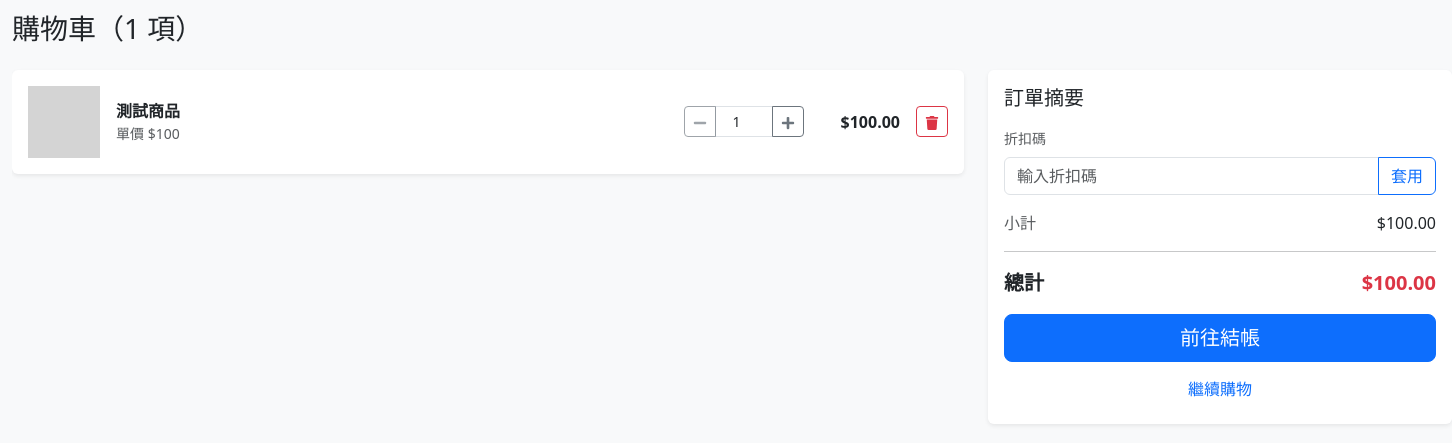
Test: CartPage 整合測試 › 移除商品 → 回到空狀態
Click the button named "移除商品" at (932, 122), box x1=916 y1=106 x2=948 y2=137
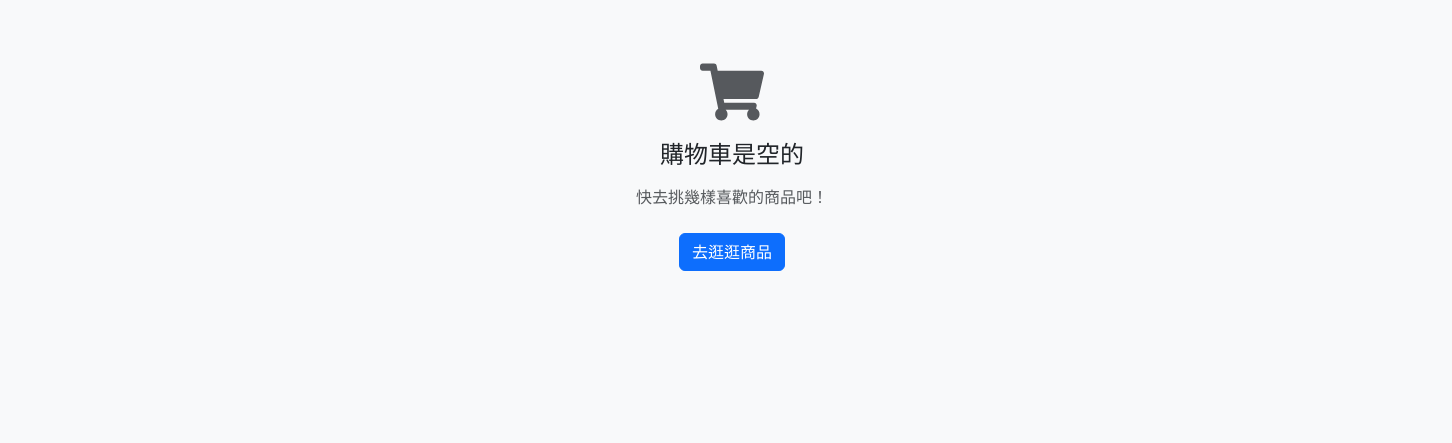
expect the heading "購物車是空的" is shown: met, box x1=660 y1=137 x2=804 y2=170
